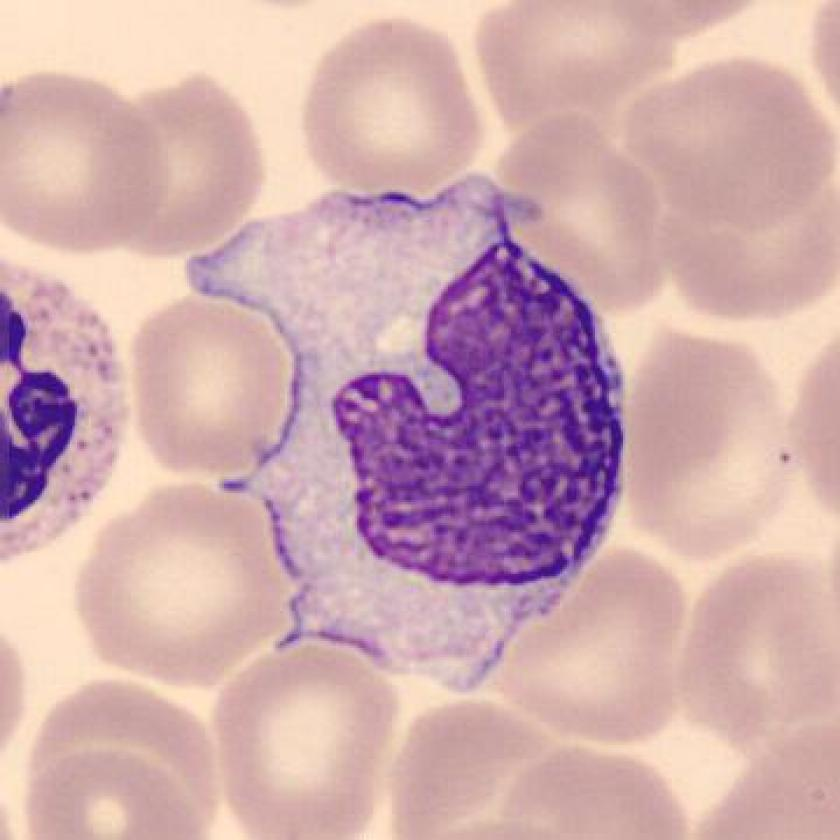monocyte: (174, 163, 650, 716)
